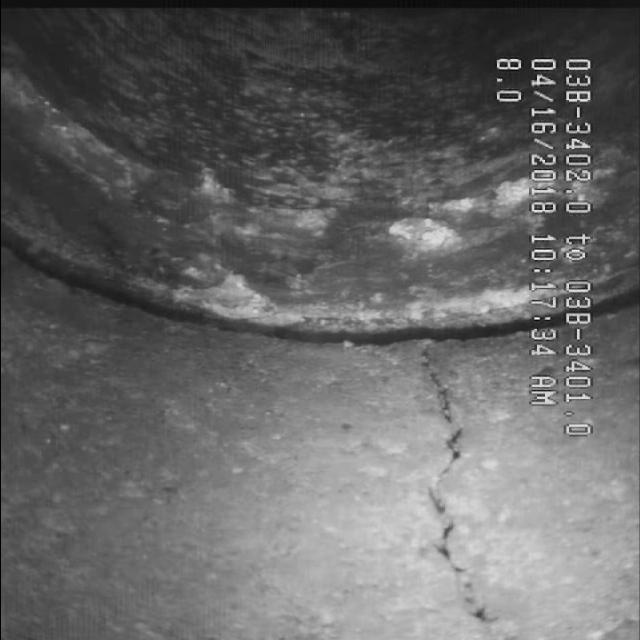Crack: (394, 348, 514, 598)
